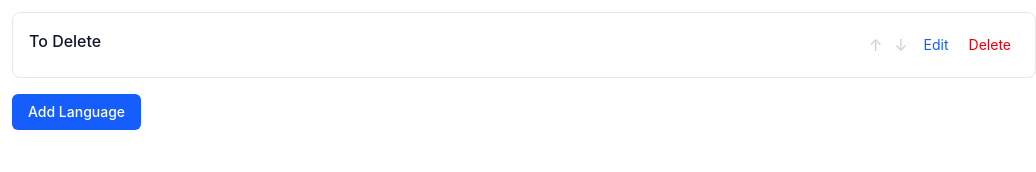
it: LanguageSection › deletes a language
Check: the heading "To Delete" is shown, box [29,31,101,51]
What coordinates should you click on to do the following:
click the button "Delete"
I would click on:
 (990, 45)
Its box is [961,31,1019,59].
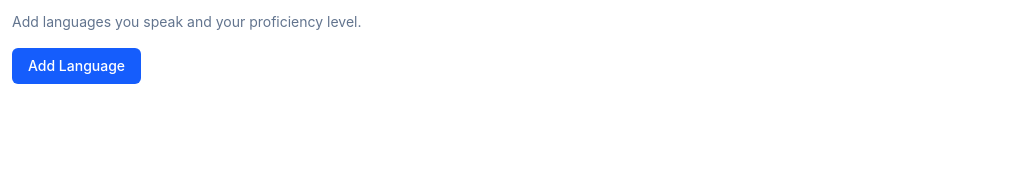
Check: the heading "To Delete" is gone
Check: the text "Add languages you speak and your proficiency level." is shown, box [12,13,362,30]
